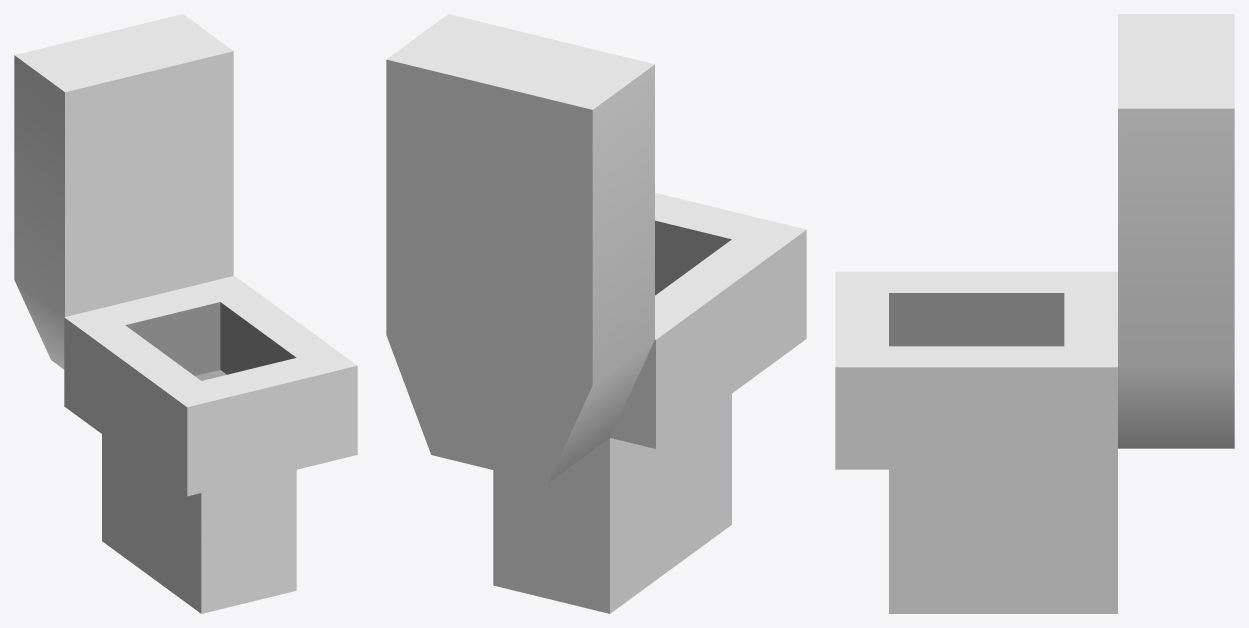
File: toilet.fbx
The picture shows the model from 3 angles, left to right: view 1: azimuth 30°, elevation 25°; view 2: azimuth 150°, elevation 25°; view 3: azimuth 270°, elevation 25°; orthographic projection. The views are drawn at different scales.
Visible parts, largest first — view 1: pCube1; view 2: pCube1; view 3: pCube1.
Boxes of the visible parts, bbox=[...] form: pCube1: bbox=[14, 14, 357, 613]; pCube1: bbox=[386, 14, 806, 613]; pCube1: bbox=[835, 14, 1234, 613].
Size of the model in its own units: 5 by 12.83 by 8.83.
1 material, 1 textured.
